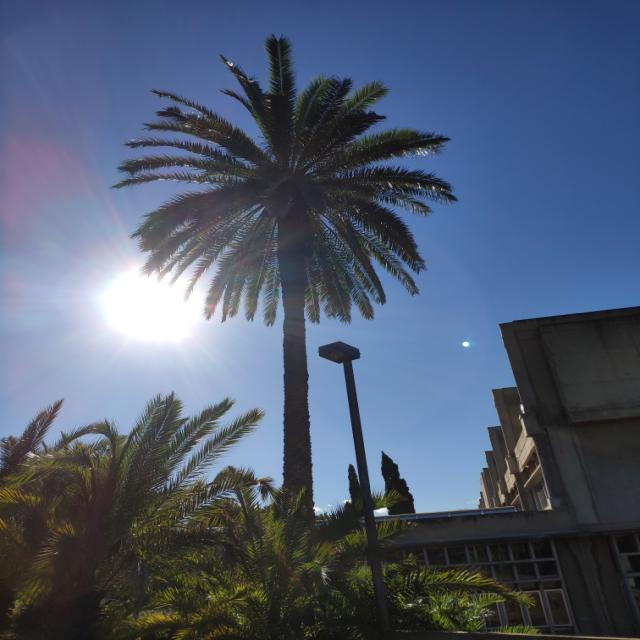Palm-Trees: (136, 32, 456, 529)
